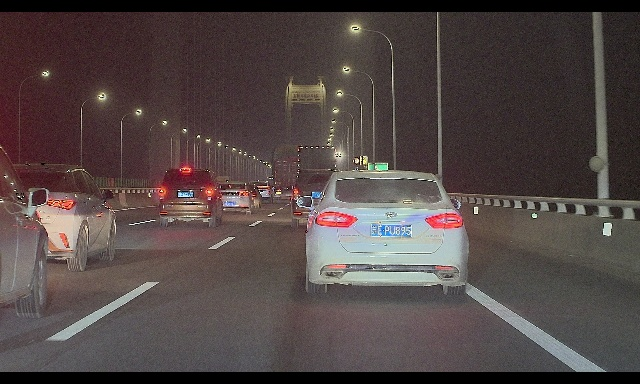car: (296, 169, 468, 295), (0, 161, 116, 272), (0, 140, 49, 319), (158, 167, 225, 227), (287, 169, 351, 228), (212, 181, 256, 215), (237, 182, 264, 209), (247, 181, 273, 204)
truck: (292, 145, 337, 207), (271, 144, 316, 201)
